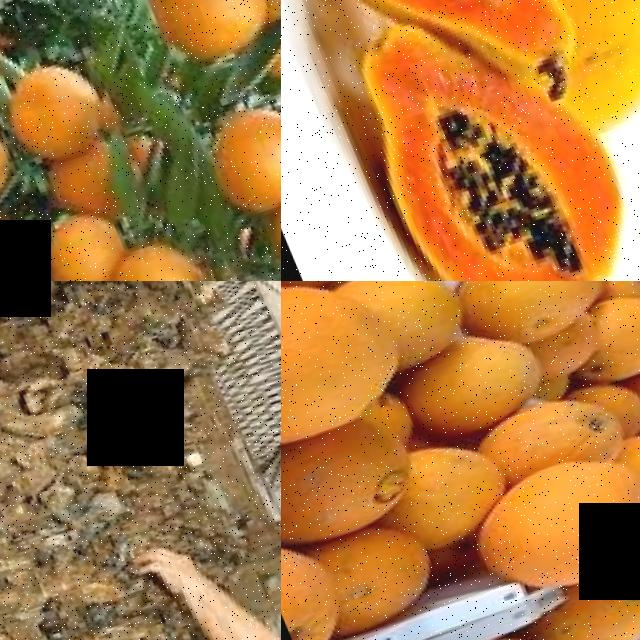orange: (455, 451, 640, 610), (281, 281, 419, 465), (281, 405, 428, 560), (381, 326, 555, 448), (288, 513, 437, 639), (458, 386, 633, 492), (444, 281, 615, 354), (0, 52, 105, 169), (181, 97, 281, 219), (114, 0, 279, 72), (511, 570, 640, 640), (15, 208, 107, 281), (580, 287, 640, 383), (88, 234, 202, 281), (252, 180, 281, 281)
pawpaw: (337, 37, 640, 281)
